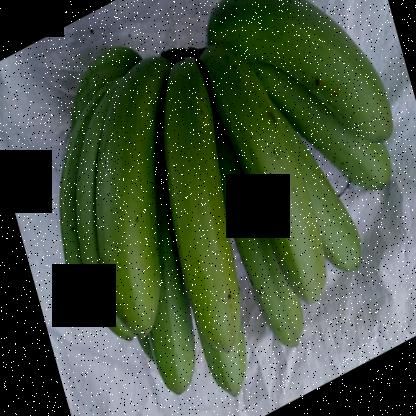freshunripe: (197, 18, 333, 304), (191, 1, 401, 148), (158, 58, 244, 360), (94, 30, 161, 339), (140, 296, 201, 403)
